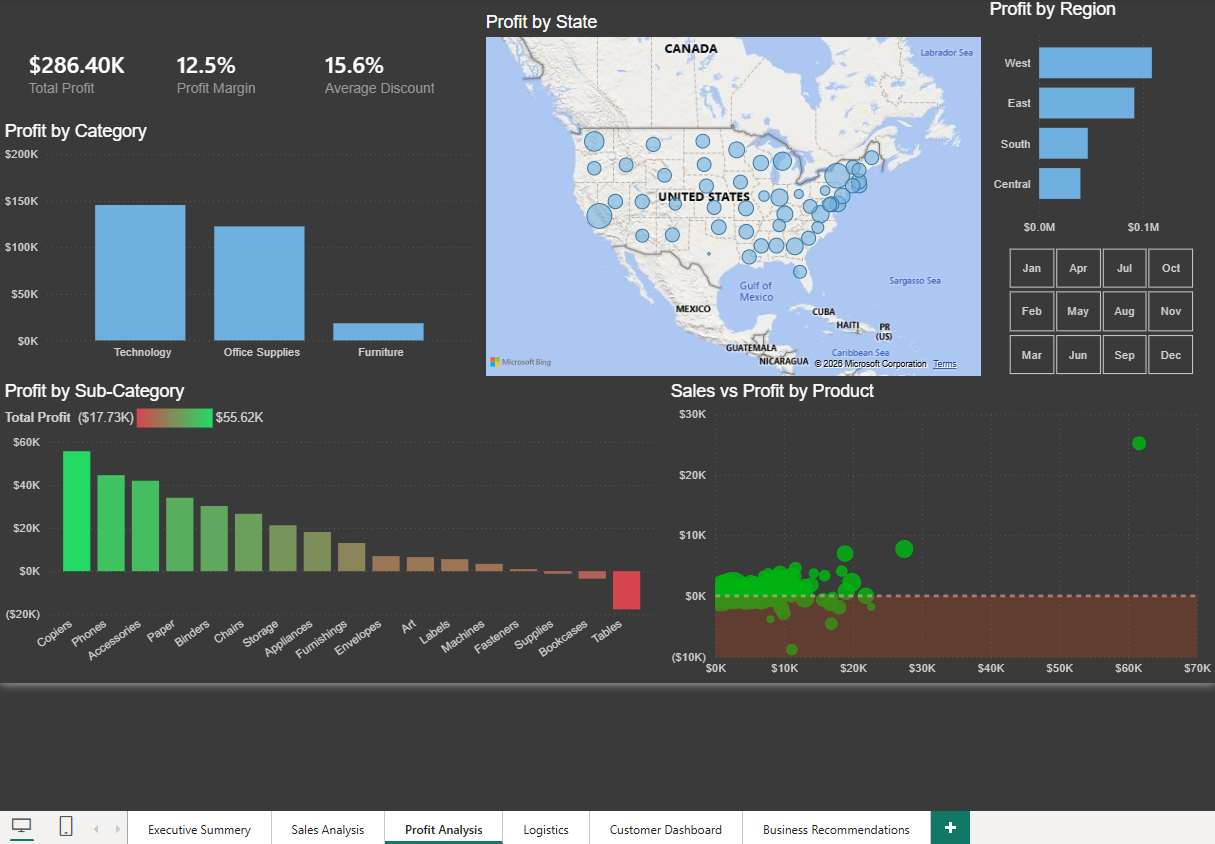

The page's visual inventory and layout, read from the dashboard file:
{"tool":"powerbi","page":{"name":"Profit Analysis","canvas":[1280,720],"ordinal":2},"visuals":[{"type":"cardVisual","fields":{"Data":["_Measures.Total Profit","_Measures.Profit Margin %","_Measures.Average Discount"]},"box":[0,0,496.8,151.6],"z":0},{"type":"clusteredColumnChart","title":"Profit by Category","fields":{"Y":["_Measures.Total Profit"],"Category":["FactOrders.Category"]},"box":[0,128.4,506.3,258.9],"z":1},{"type":"clusteredColumnChart","title":"Profit by Sub-Category","fields":{"Category":["FactOrders.Sub-Category"],"Y":["_Measures.Total Profit"]},"box":[0,402.1,693.7,317.9],"z":2},{"type":"clusteredBarChart","title":"Profit by Region","fields":{"Y":["_Measures.Total Profit"],"Category":["FactOrders.Region"]},"box":[1036.8,0,243.2,255.8],"z":3},{"type":"map","title":"Profit by State","fields":{"Category":["FactOrders.State"],"Size":["_Measures.Total Profit"]},"box":[506.3,13.7,530.5,388.4],"z":4},{"type":"scatterChart","title":"Sales vs Profit by Product","fields":{"X":["_Measures.Total Sale"],"Y":["_Measures.Total Profit"],"Category":["FactOrders.Product Name"],"Size":["CountNonNull(FactOrders.Quantity)"]},"box":[701.1,402.1,578.9,317.9],"z":5},{"type":"slicer","title":"Month","fields":{"Values":["DimDate.Month Name"]},"box":[1036.8,255.8,243.2,146.3],"z":6}]}

Visuals, with their boxes on the page's 1280x720 design canvas (x1, y1, x2, y2). These are canvas units, not pixel positions in the 1215x844 screenshot, which may show the page scaled, cropped or inside an application window:
cardVisual - _Measures.Total Profit x _Measures.Profit Margin %: [left=0, top=0, right=497, bottom=152]
"Profit by Category" clusteredColumnChart: [left=0, top=128, right=506, bottom=387]
"Profit by Sub-Category" clusteredColumnChart: [left=0, top=402, right=694, bottom=720]
"Profit by Region" clusteredBarChart: [left=1037, top=0, right=1280, bottom=256]
"Profit by State" map: [left=506, top=14, right=1037, bottom=402]
"Sales vs Profit by Product" scatterChart: [left=701, top=402, right=1280, bottom=720]
"Month" slicer: [left=1037, top=256, right=1280, bottom=402]
